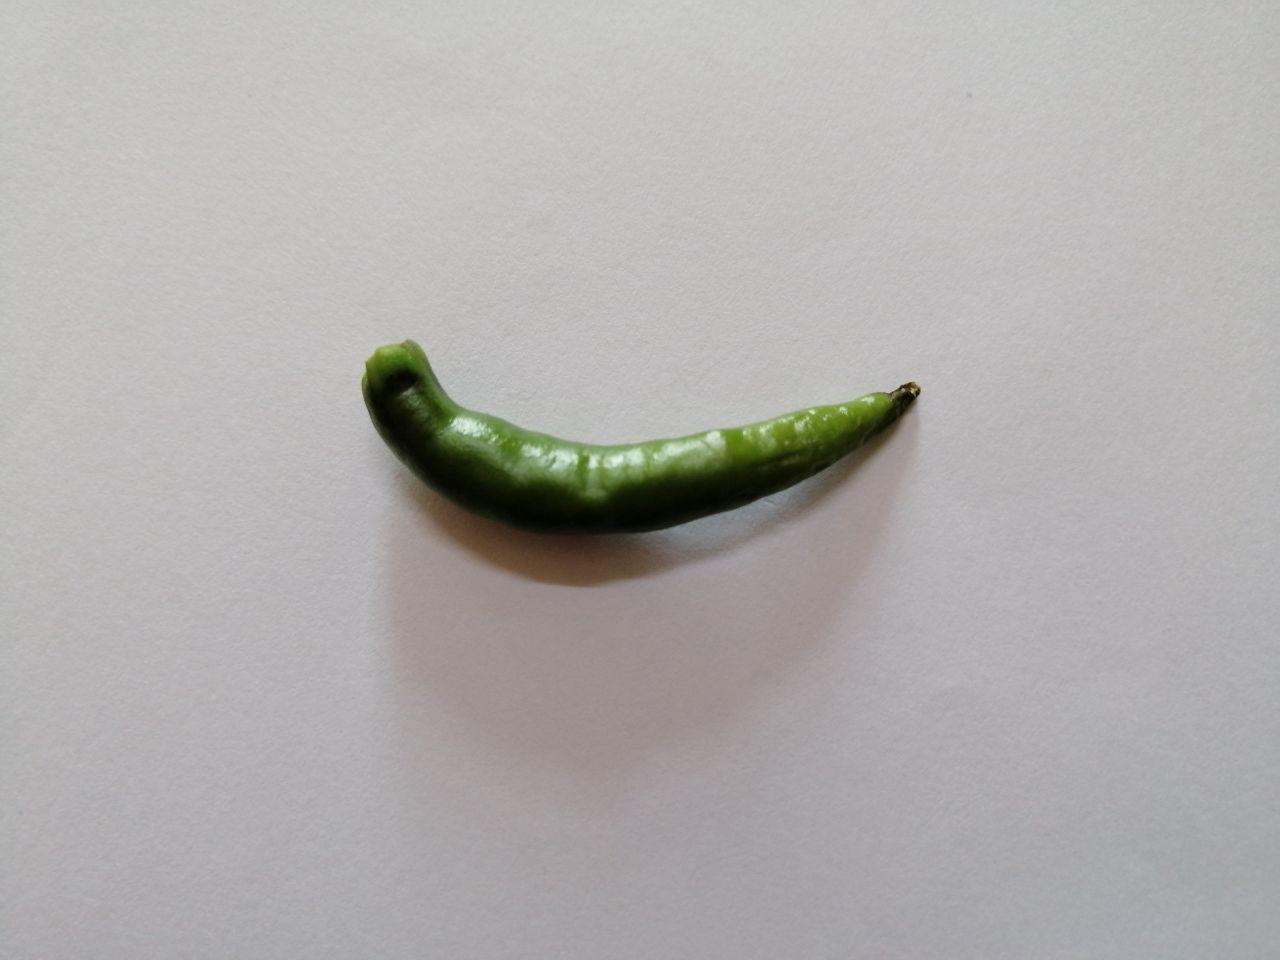lada hijau: (333, 319, 946, 577)
